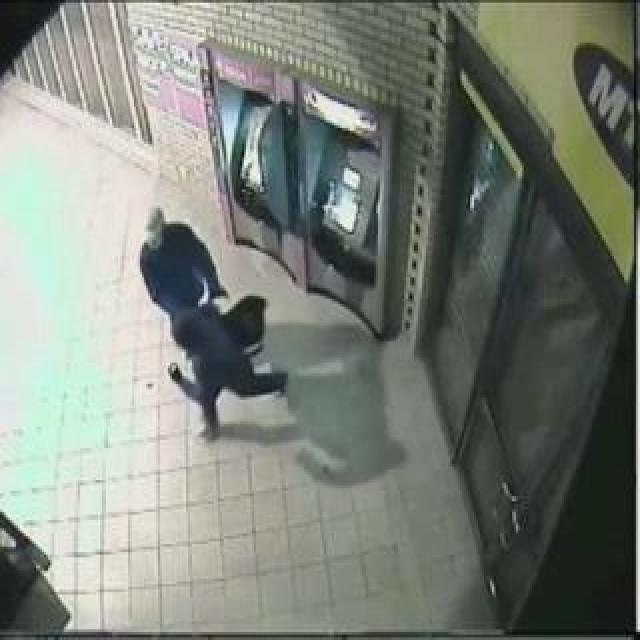thief: (114, 182, 250, 390)
